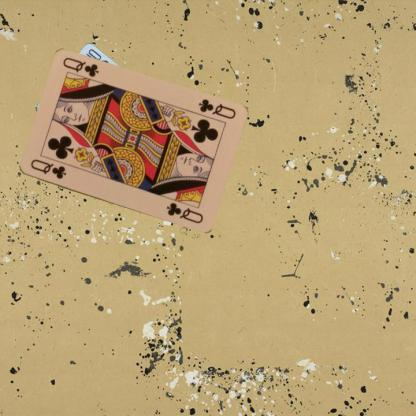Qc: (195, 96, 237, 121), (28, 156, 67, 181)
